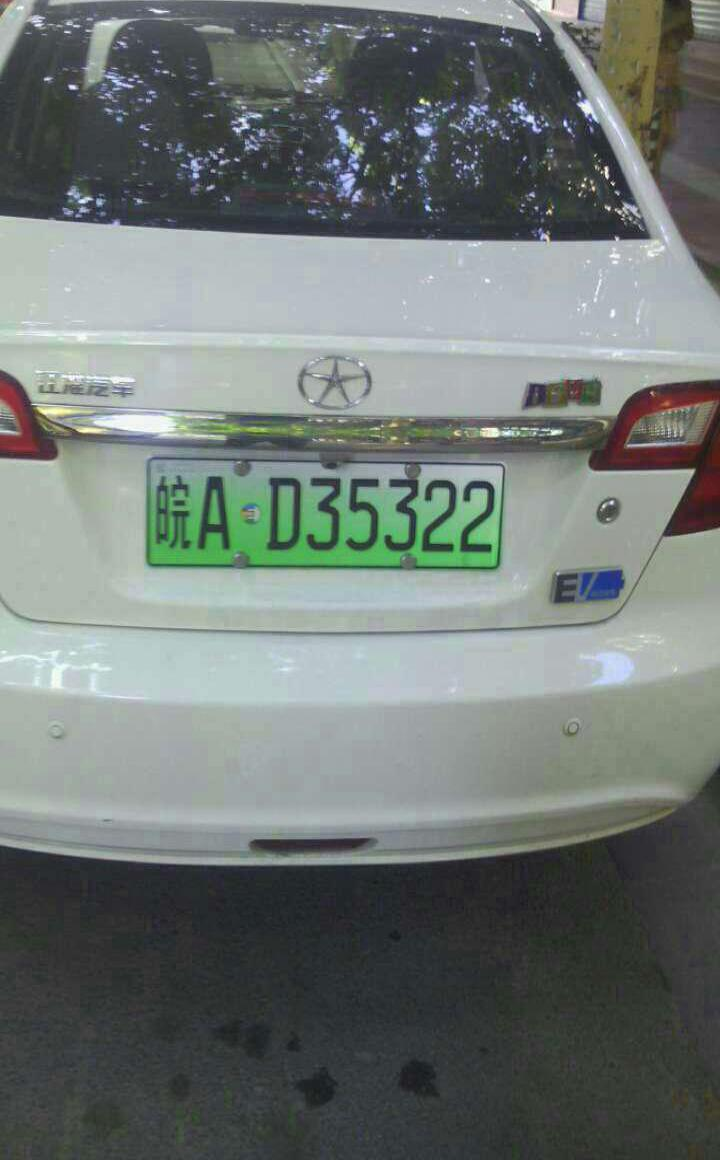car_id: (147, 459, 503, 564)
